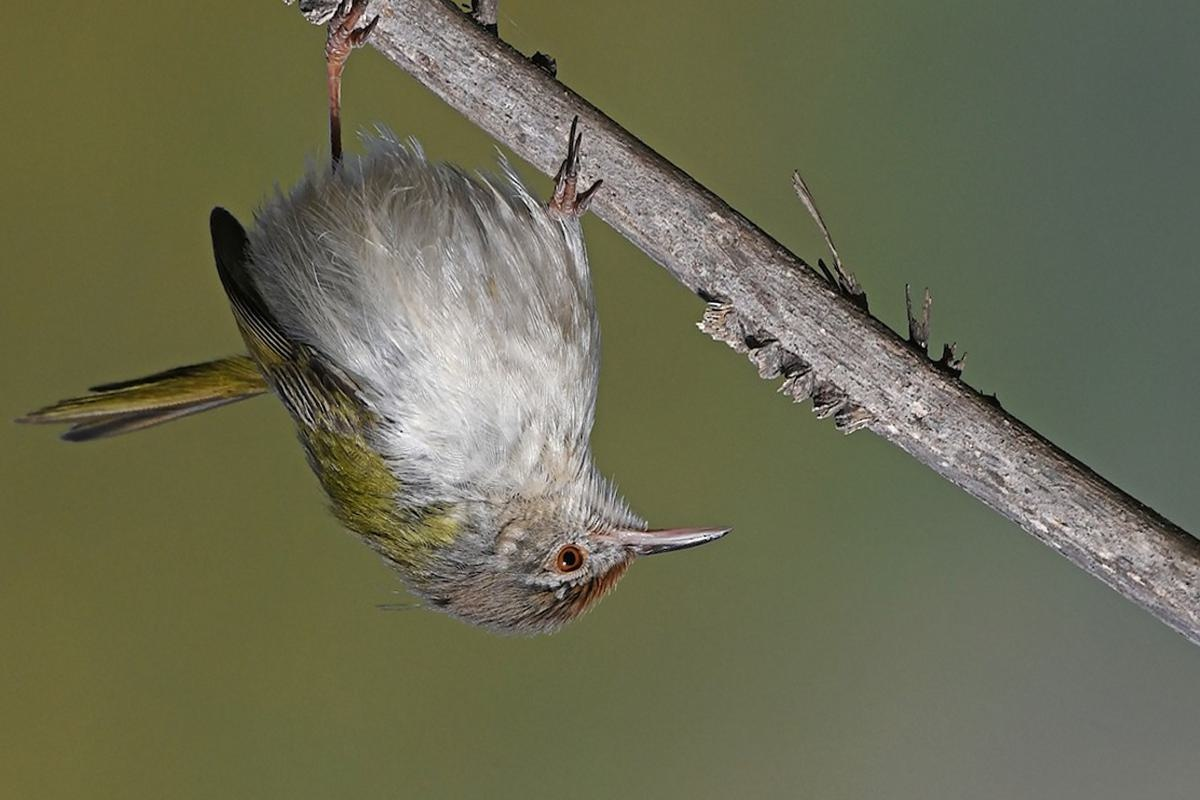tailorbird: (88, 121, 757, 632)
